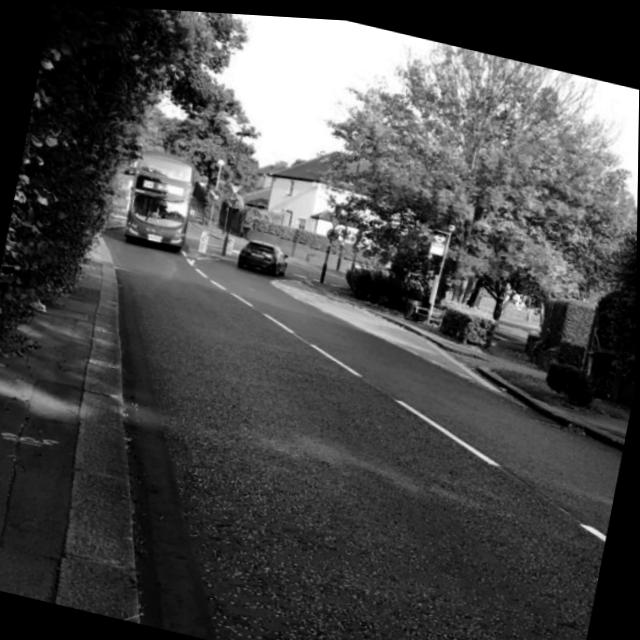cleat: (0, 142, 599, 640)
